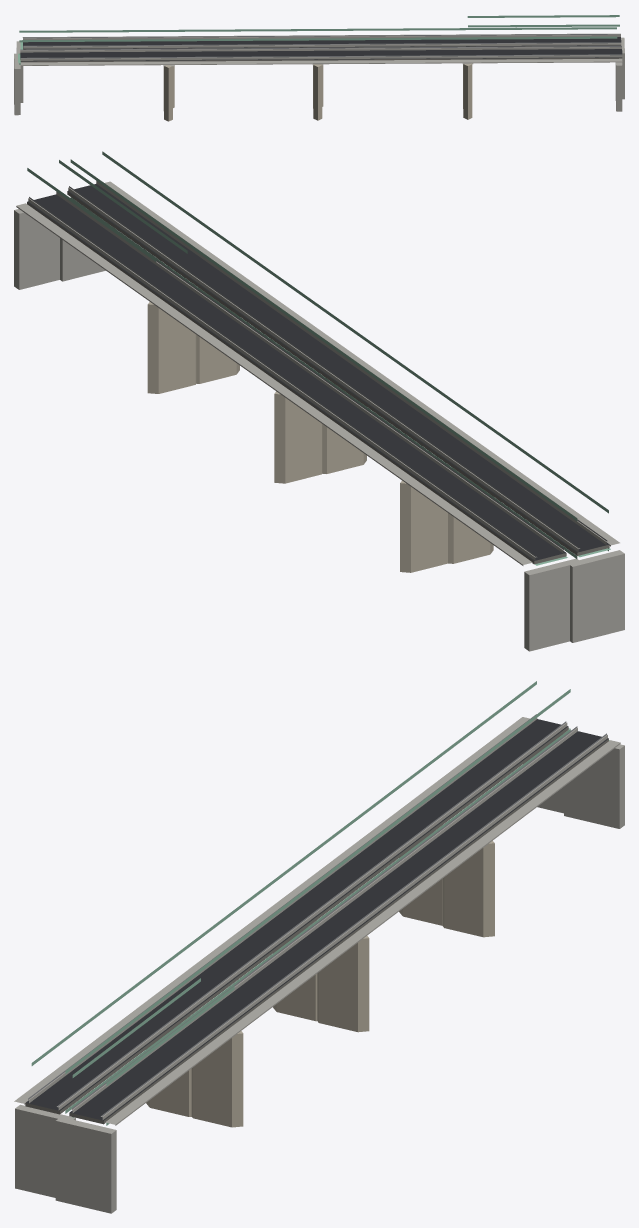
File: br_r13_low_level_lod2.gltf
3 renders of one model, top to bottom at view 1: azimuth 30°, elevation 25°; view 2: azimuth 150°, elevation 25°; view 3: azimuth 270°, elevation 25°, orthographic. The views are drawn at different scales.
Parts seen in each view (by area): view 1: br_r13_low_level_lod2; view 2: br_r13_low_level_lod2; view 3: br_r13_low_level_lod2.
Part boxes in pixels (<box>): br_r13_low_level_lod2: <box>14,15,624,121</box>; br_r13_low_level_lod2: <box>14,151,624,651</box>; br_r13_low_level_lod2: <box>14,681,624,1213</box>.
Size of the model in its own units: 201 by 31.4 by 126.
